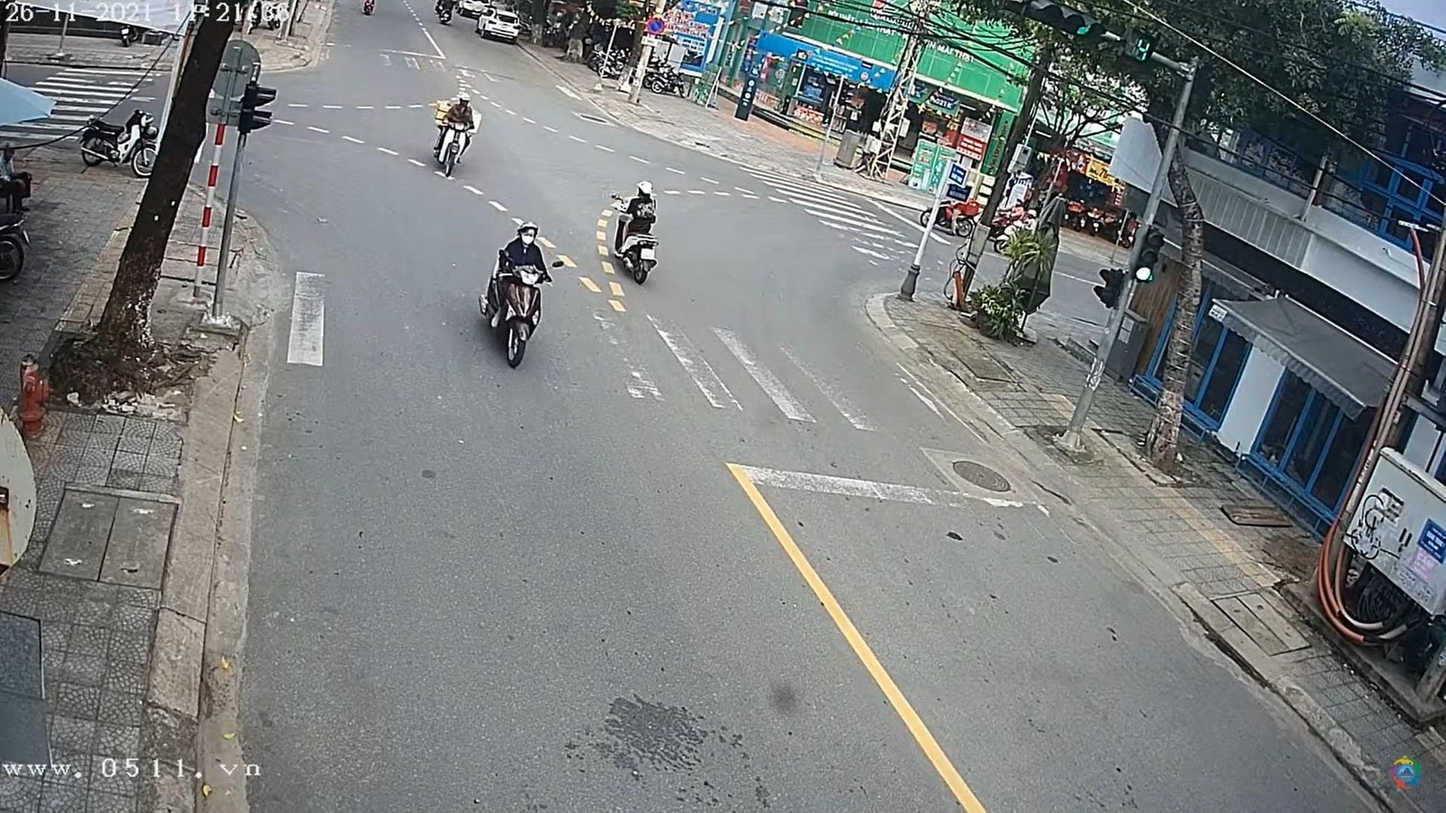motorbike: (494, 262, 556, 374), (615, 215, 662, 288), (434, 114, 477, 177), (360, 2, 378, 17)
